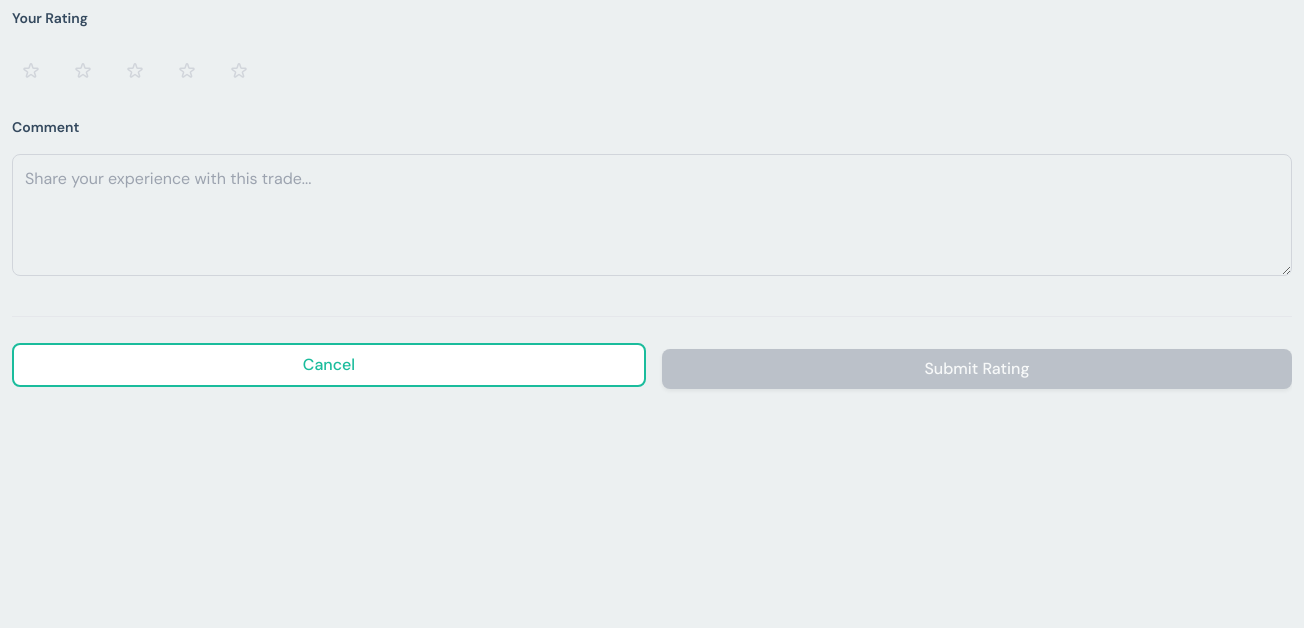
Test: RatingForm › Validation › shows error when submitting low rating without comment
Note: Select 2 stars
Click the button named "rate 2 star" at [86, 71], box [64,49,108,93]
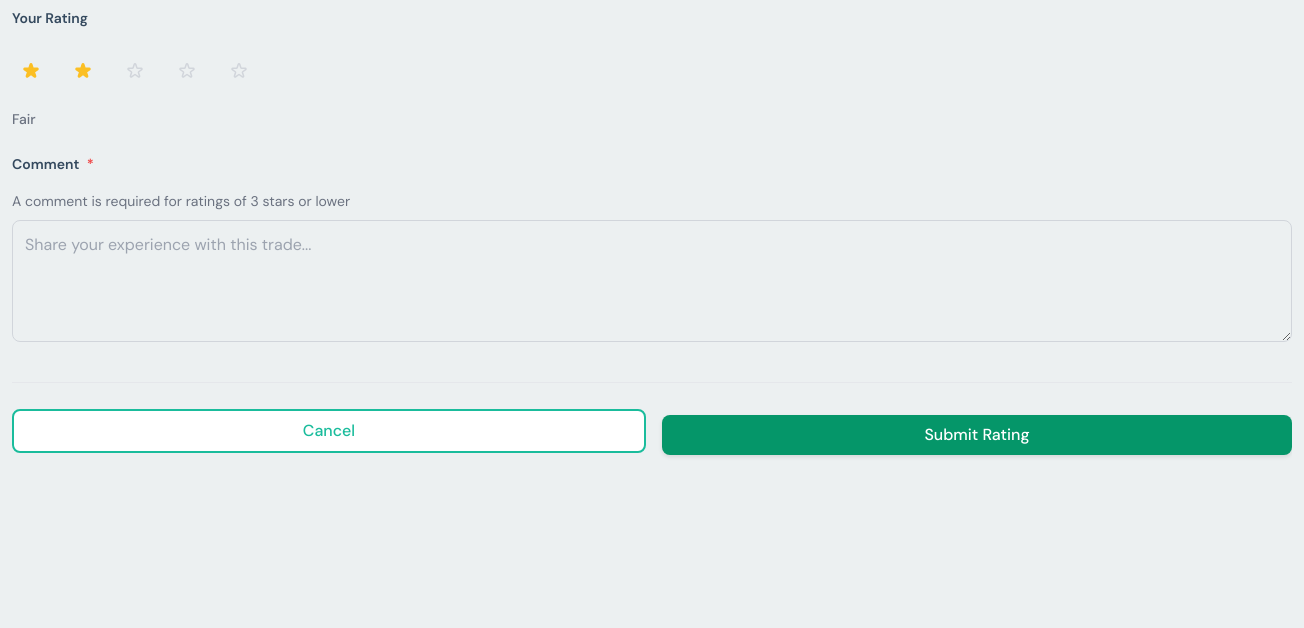
Note: Submit without comment
Submit the form named "submit rating"
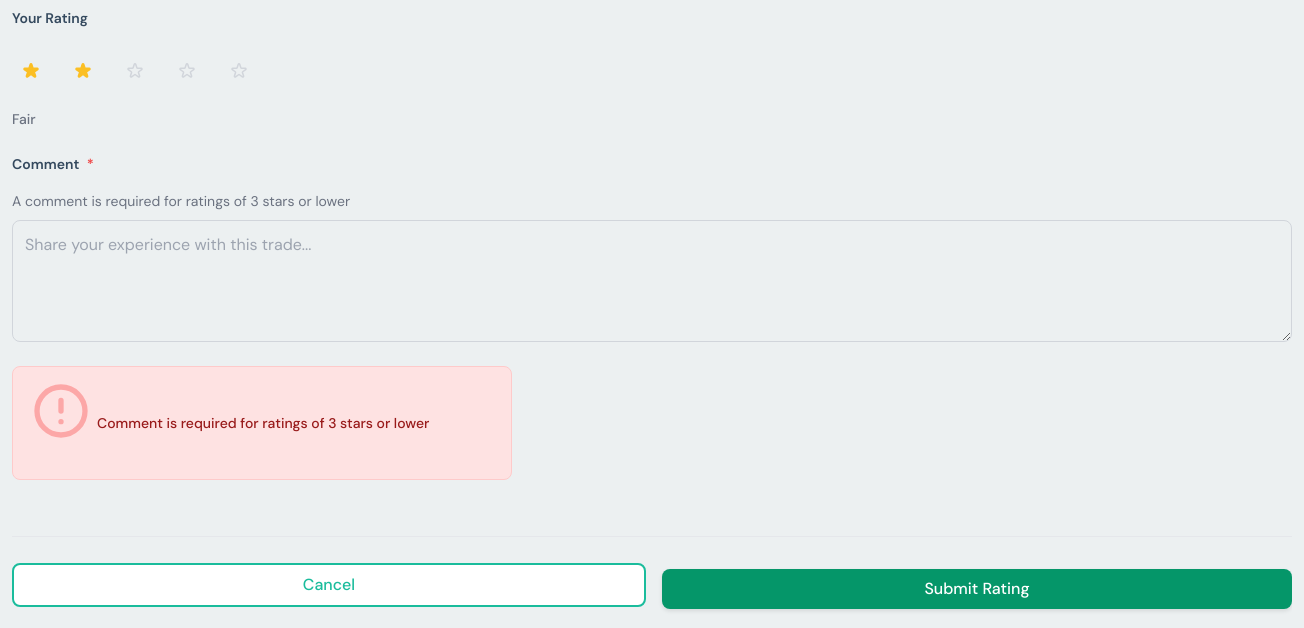
Now the text "Comment is required for ratings of 3 stars or lower" is shown, box [12,366,512,480]
